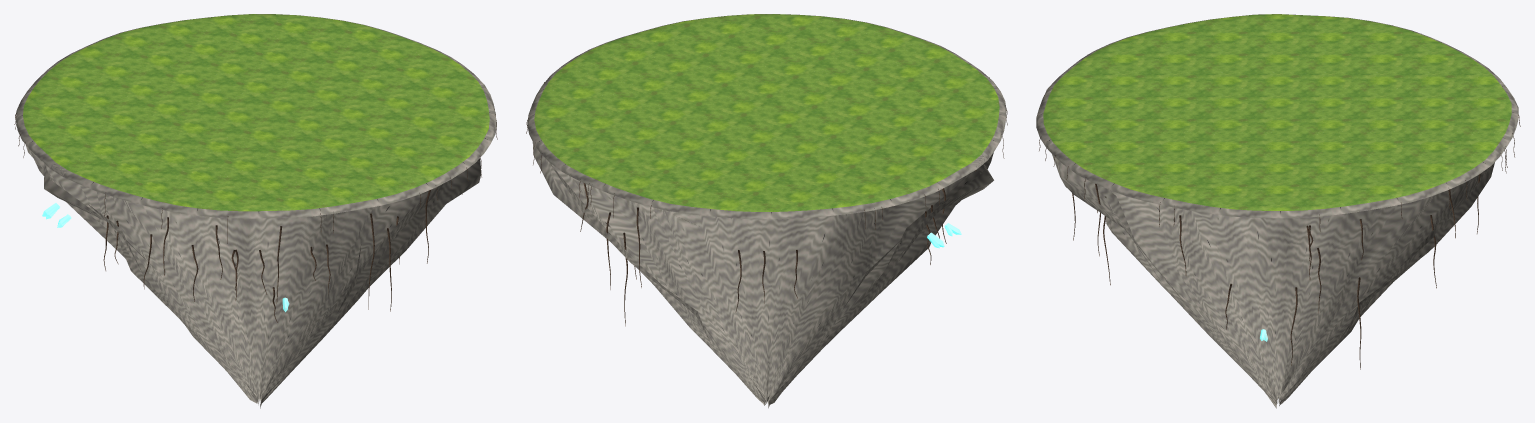
Rendered from sky_platform_terraces.glb.
3 renders of one model, left to right at view 1: azimuth 30°, elevation 25°; view 2: azimuth 150°, elevation 25°; view 3: azimuth 270°, elevation 25°, orthographic.
Parts seen in each view (by area): view 1: IslandTop-col, IslandRock, IslandRoots; view 2: IslandTop-col, IslandRock, IslandRoots; view 3: IslandTop-col, IslandRock, IslandRoots.
Boxes of the visible parts, x1,y1,x2,y2 form: IslandTop-col: (15,14,496,218); IslandRock: (26,145,481,408); IslandRoots: (14,104,497,322); IslandTop-col: (527,14,1006,219); IslandRock: (532,142,993,408); IslandRoots: (526,77,1007,326); IslandTop-col: (1036,14,1518,218); IslandRock: (1052,154,1494,408); IslandRoots: (1039,54,1520,369).
Bounding box in the file's own units: 78.56 × 52.73 × 78.15.
4 materials, 3 textured.
